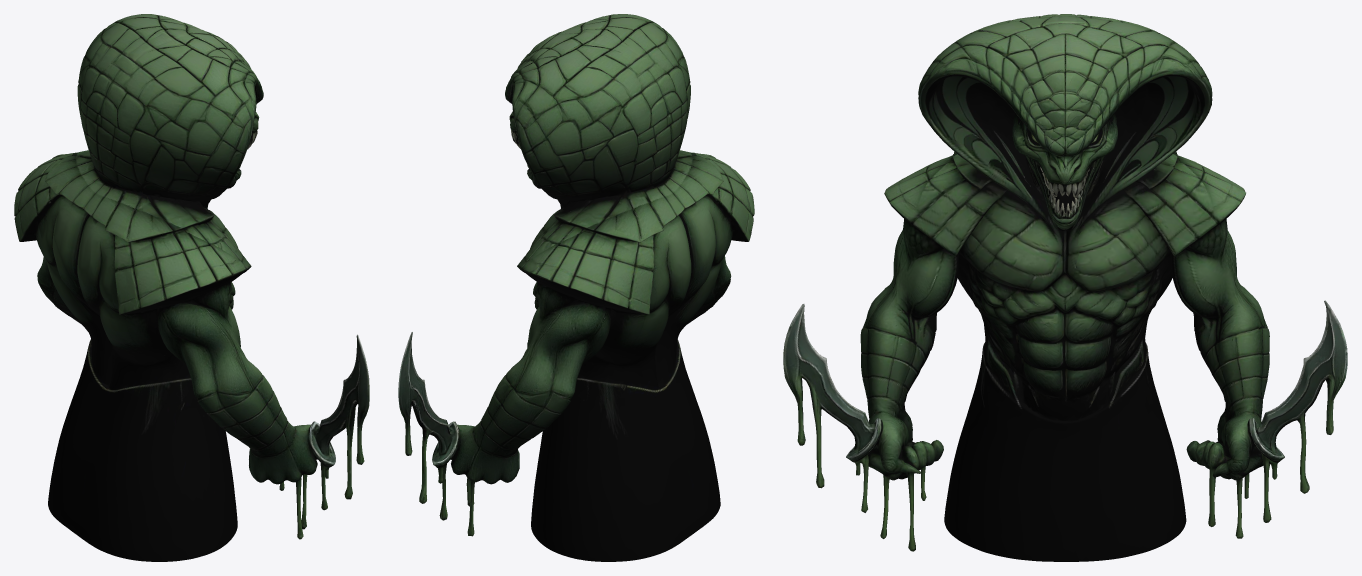
File: venomfang_bust.glb
3 views of the same model, side by side, from view 1: azimuth 30°, elevation 25°; view 2: azimuth 150°, elevation 25°; view 3: azimuth 270°, elevation 25° (orthographic). The views are drawn at different scales.
Parts seen in each view (by area): view 1: tripo_node_60e79d41-8d47-4d64-9ab2-98e484d28f79; view 2: tripo_node_60e79d41-8d47-4d64-9ab2-98e484d28f79; view 3: tripo_node_60e79d41-8d47-4d64-9ab2-98e484d28f79.
Boxes of the visible parts, box(x1,y1,x2,y2) form: tripo_node_60e79d41-8d47-4d64-9ab2-98e484d28f79: box(14, 14, 369, 561); tripo_node_60e79d41-8d47-4d64-9ab2-98e484d28f79: box(398, 14, 754, 561); tripo_node_60e79d41-8d47-4d64-9ab2-98e484d28f79: box(783, 14, 1347, 561).
Size of the model in its own units: 0.4159 by 1 by 0.9922.
1 material, 1 textured.
